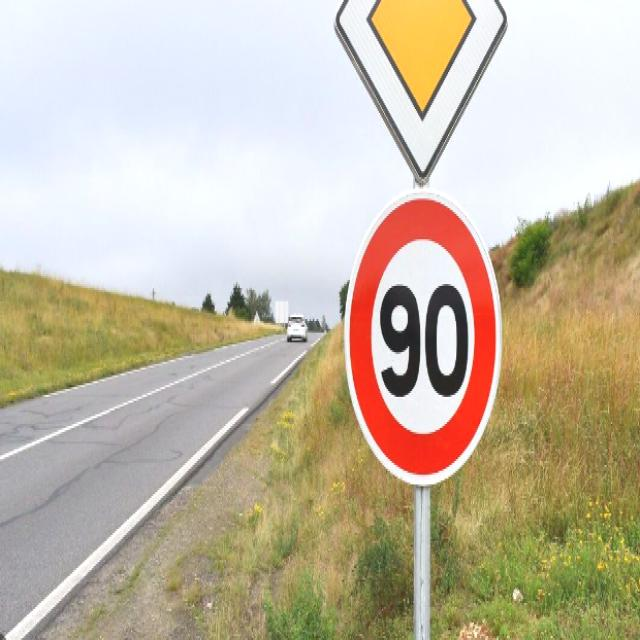speed_90: (342, 184, 503, 488)
